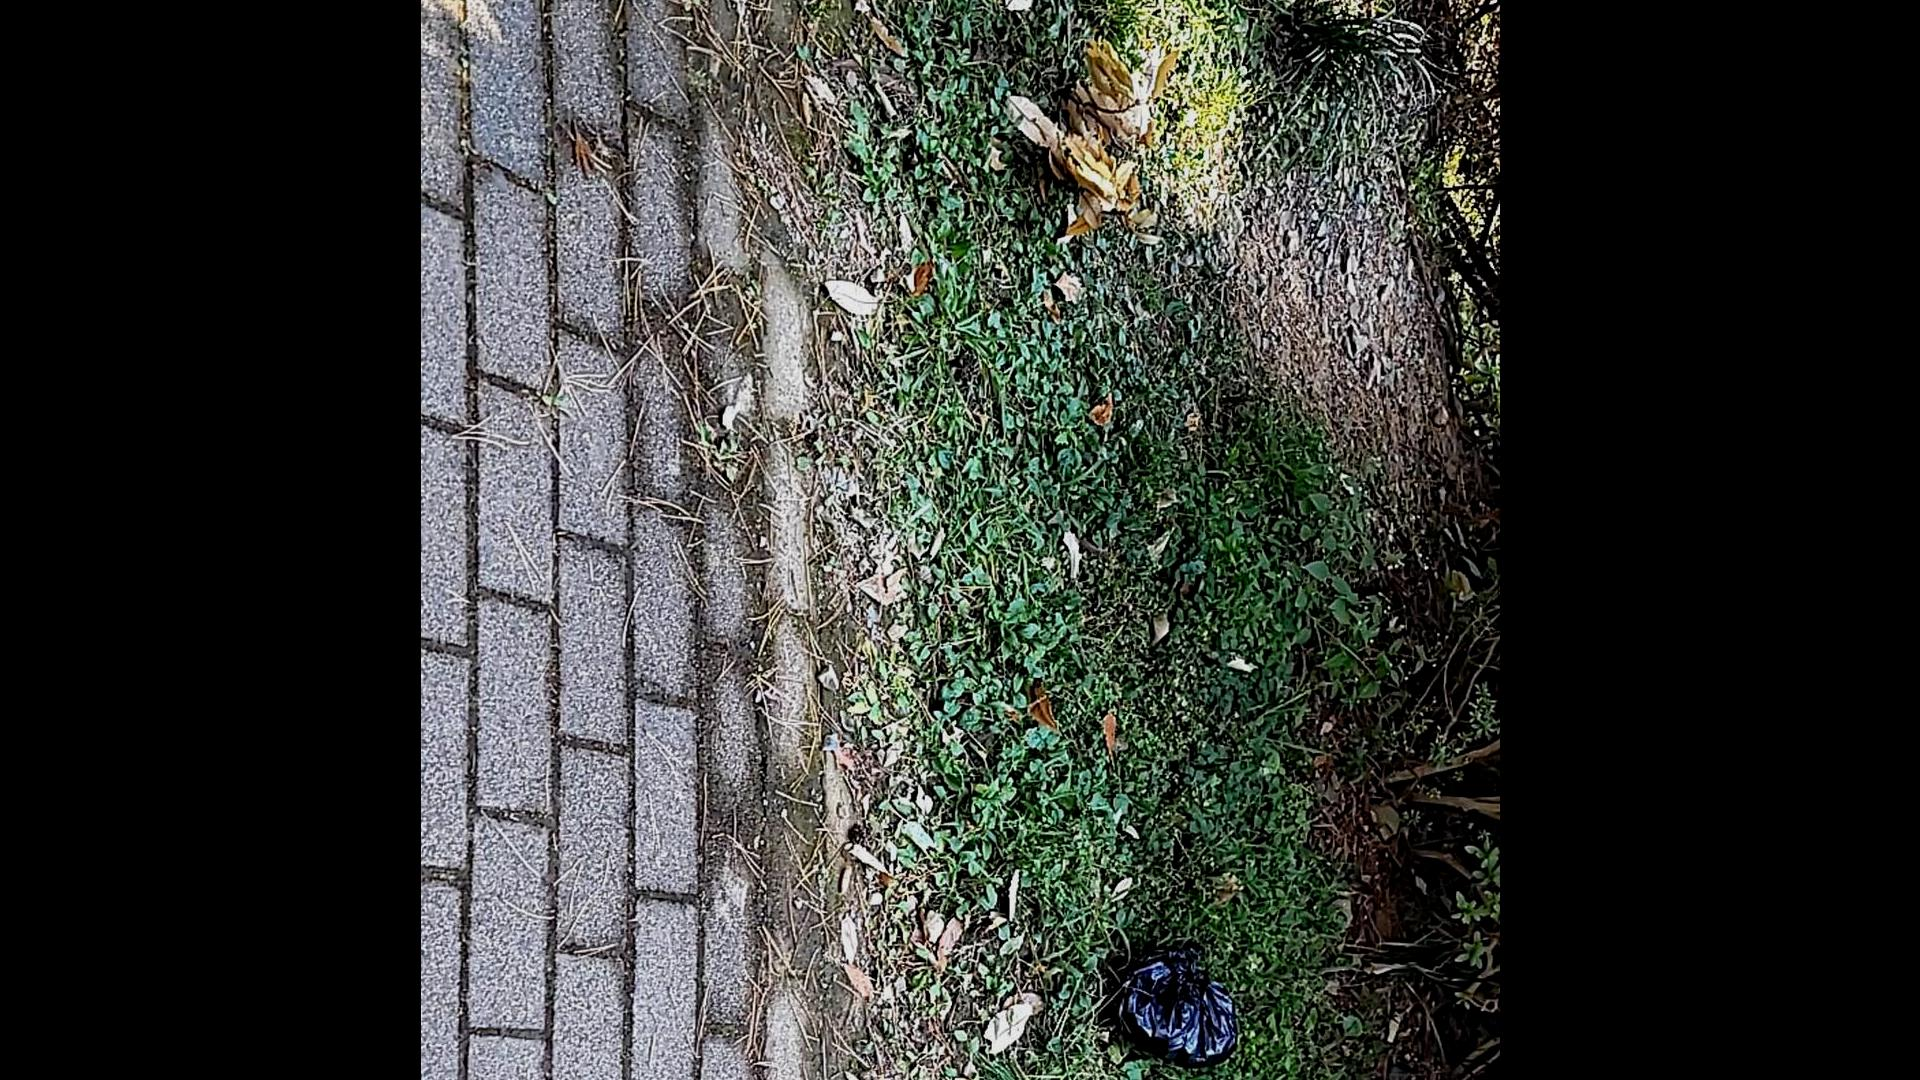black_bag: (1088, 934, 1247, 1077)
